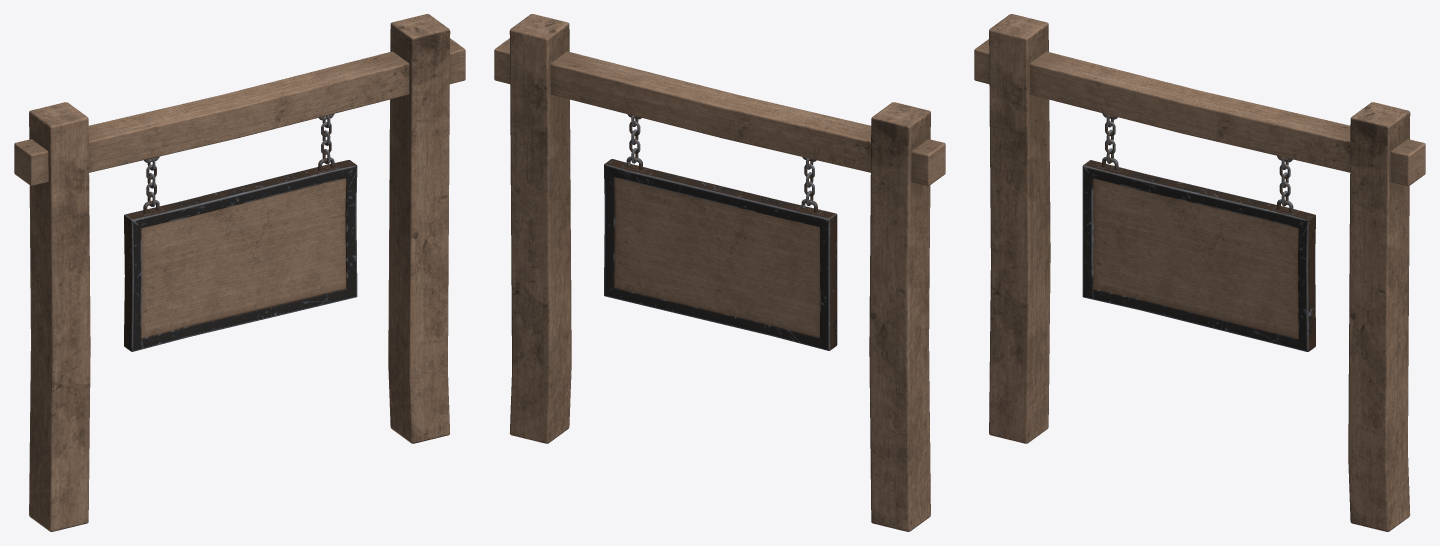
File: old_medieval_sign_board.glb
3 renders of one model, left to right at view 1: azimuth 30°, elevation 25°; view 2: azimuth 150°, elevation 25°; view 3: azimuth 330°, elevation 25°, orthographic.
Parts seen in each view (by area): view 1: signboard; view 2: signboard; view 3: signboard.
Boxes of the visible parts, left/top/right/bottom form: signboard: left=14, top=14, right=465, bottom=531; signboard: left=494, top=14, right=945, bottom=531; signboard: left=974, top=14, right=1425, bottom=531.
Bounding box in the file's own units: 0.4895 × 0.4366 × 0.0437.
Materials: 1 (1 with a texture image).
